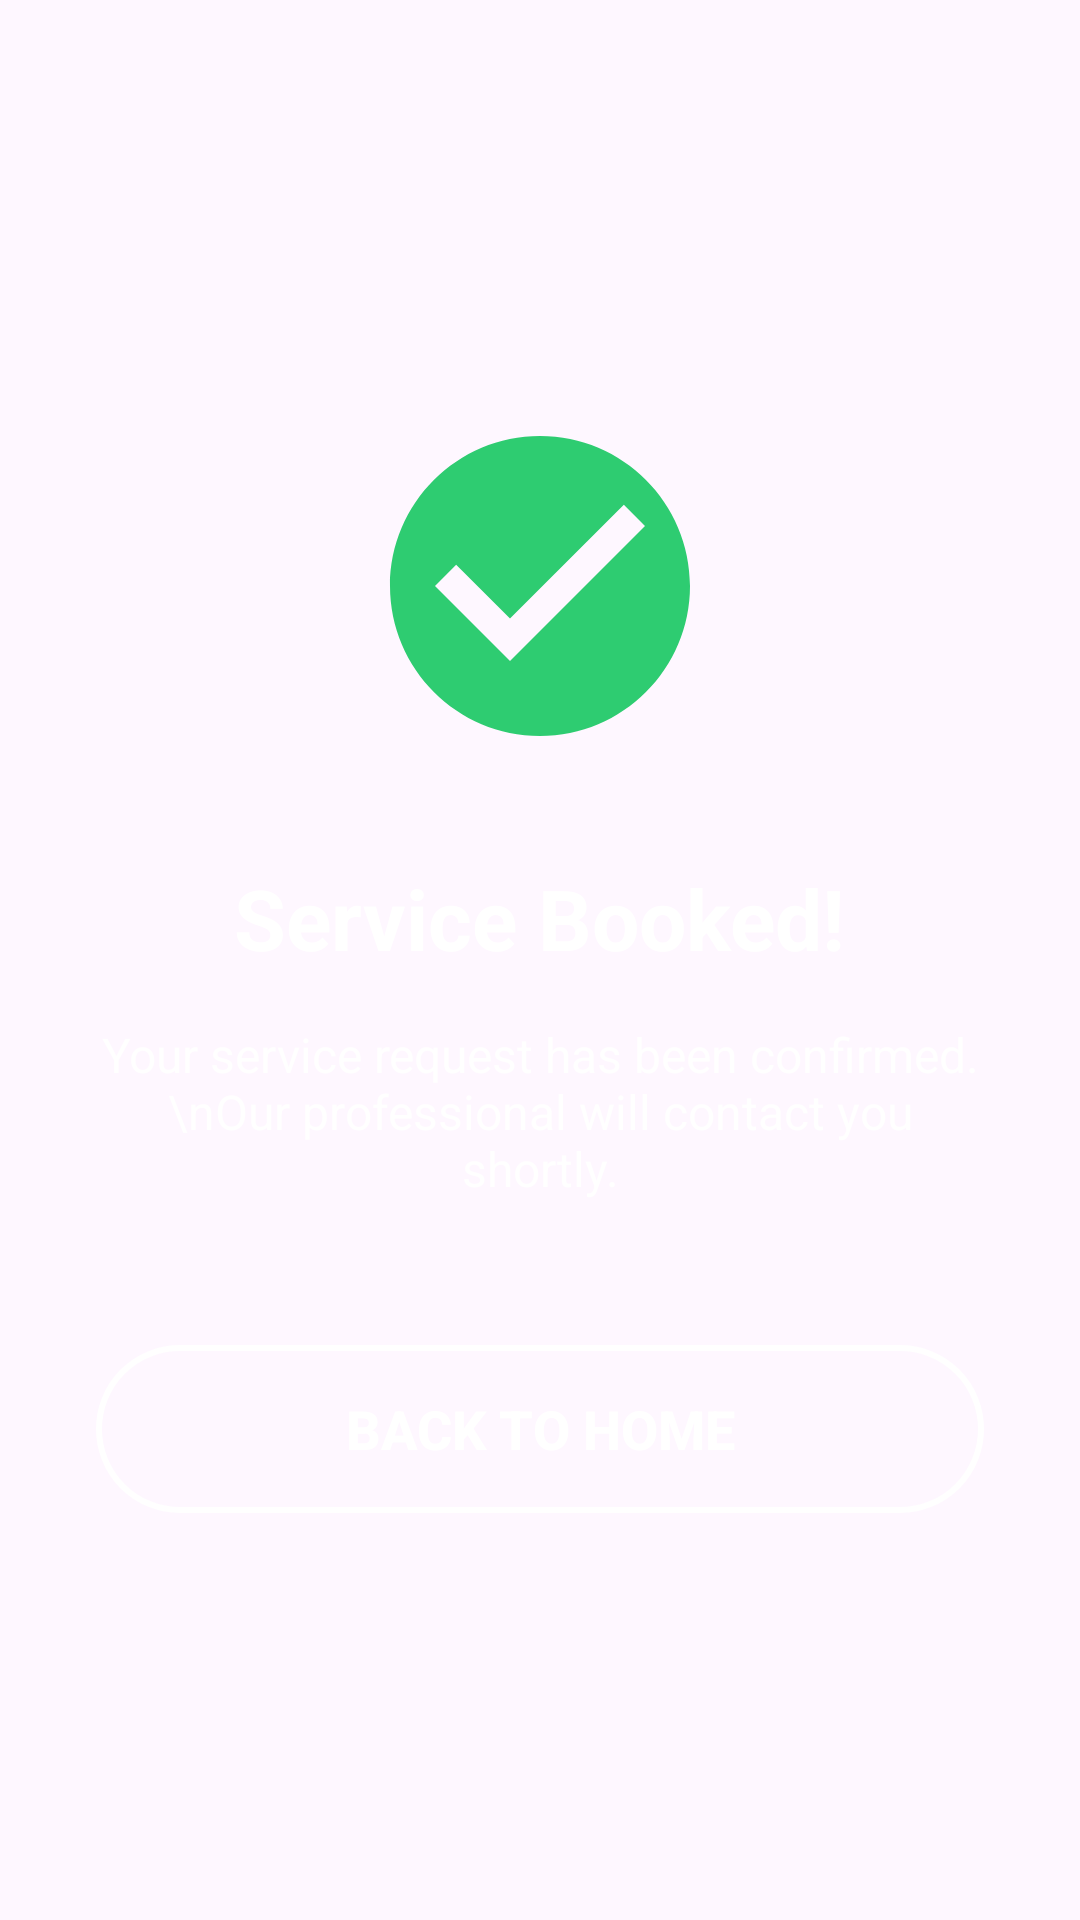

Icons on this 1080px×1920px Android screen, each with its box as box=[x1, y1, x2, y2]:
check circle: box=[390, 436, 690, 736]
